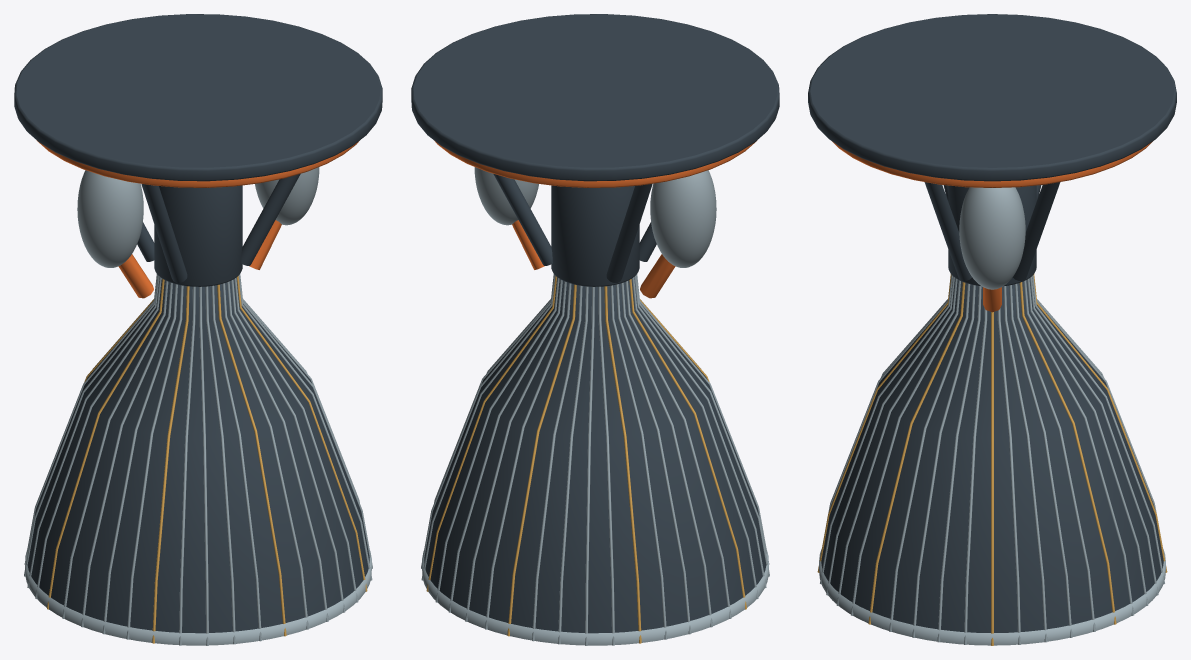
The model's file is engineVacMedium.glb.
3 renders of one model, left to right at view 1: azimuth 30°, elevation 25°; view 2: azimuth 150°, elevation 25°; view 3: azimuth 270°, elevation 25°, orthographic.
Parts seen in each view (by area): view 1: GimbalNozzle, EngineMount; view 2: GimbalNozzle, EngineMount; view 3: GimbalNozzle, EngineMount.
Boxes of the visible parts, x1,y1,x2,y2 form: GimbalNozzle: (24,274,372,645); EngineMount: (14,14,382,298); GimbalNozzle: (421,274,769,645); EngineMount: (411,14,779,298); GimbalNozzle: (817,274,1167,645); EngineMount: (808,14,1176,312).
Size of the model in its own units: 1.25 by 1.8 by 1.25.
